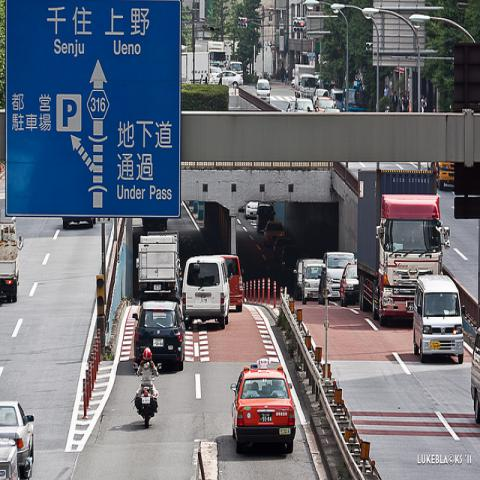car: (213, 65, 275, 216), (229, 364, 296, 452), (413, 274, 466, 364), (131, 300, 185, 370), (180, 256, 230, 330), (0, 402, 37, 474), (317, 251, 354, 304), (469, 321, 479, 424), (340, 264, 359, 308), (272, 232, 294, 268), (291, 258, 307, 302), (263, 221, 286, 246), (313, 96, 336, 112), (294, 97, 314, 113)
motorcycle: (137, 386, 158, 428)
truck: (359, 172, 443, 316), (137, 230, 182, 304), (0, 220, 24, 302)
